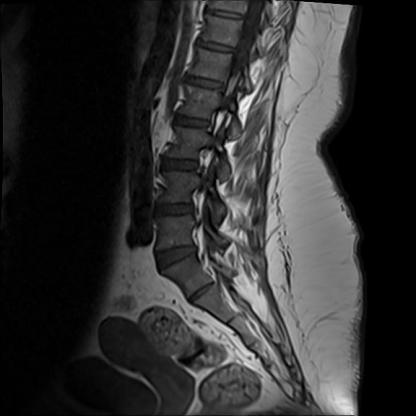Degenerative Disc Diseaserotation: (154, 244, 199, 271), (153, 199, 200, 220)
Disc Relaxationrotation: (152, 243, 201, 272)
